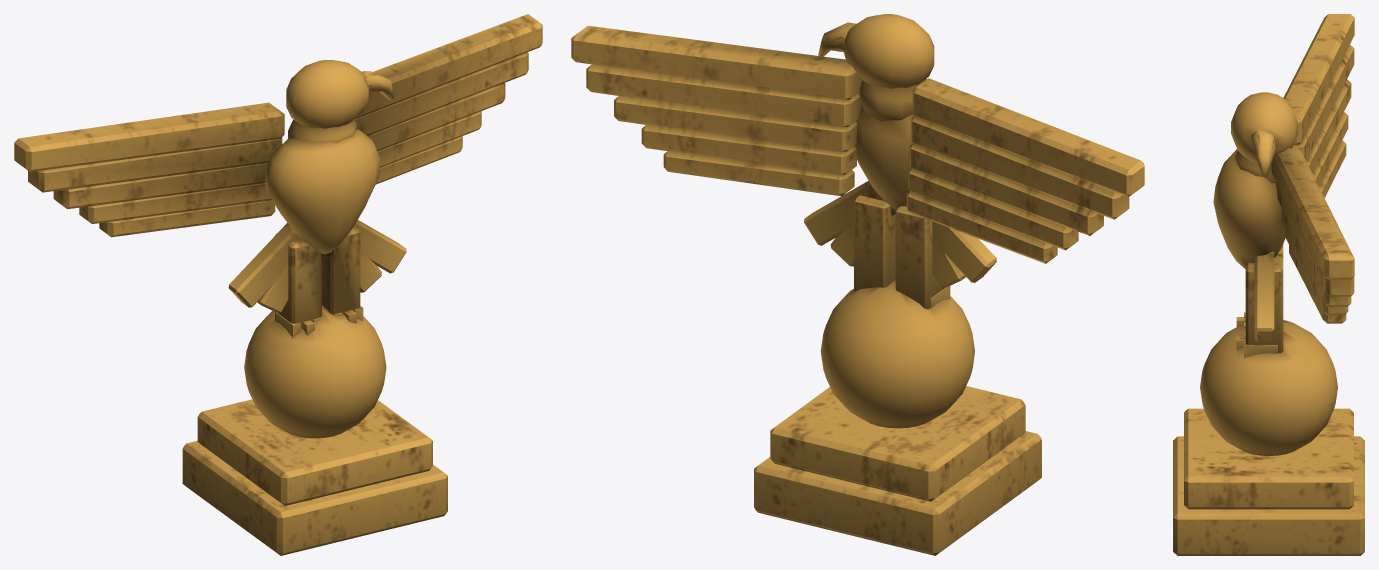
The model's file is mm7_deco_dec96.glb.
3 renders of one model, left to right at view 1: azimuth 30°, elevation 25°; view 2: azimuth 150°, elevation 25°; view 3: azimuth 270°, elevation 25°, orthographic. The views are drawn at different scales.
Visible parts, largest first — view 1: Base; view 2: Base; view 3: Base.
Boxes of the visible parts, x1=… form: Base: x1=14, y1=14, x2=542, y2=555; Base: x1=571, y1=14, x2=1144, y2=555; Base: x1=1173, y1=14, x2=1364, y2=555.
Bounding box in the file's own units: 0.7907 × 0.6401 × 0.2619.
1 material, 1 textured.
